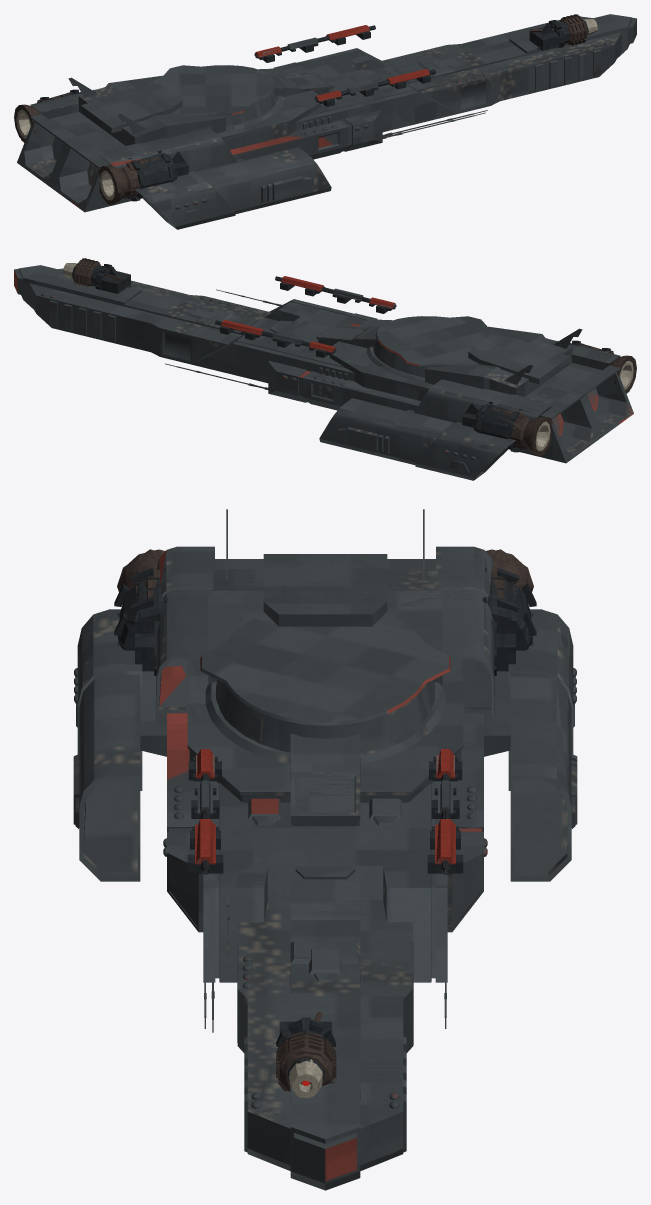
File: ashline_v2_dart.glb
The picture shows the model from 3 angles, top to bottom: view 1: azimuth 30°, elevation 25°; view 2: azimuth 150°, elevation 25°; view 3: azimuth 270°, elevation 25°; orthographic projection. The views are drawn at different scales.
Parts seen in each view (by area): view 1: LOD0_Merged_Material_Hull, LOD1_Merged_Material_Hull, LOD0_Merged_Material_Mechanical, LOD2_Merged_Material_Hull, LOD0_Merged_Material_HeatMetal, LOD0_Merged_Material_Red_Paint, LOD0_Merged_Material_Refractory, LOD1_Merged_Material_Refractory, LOD1_Merged_Material_Red_Paint, LOD1_Merged_Material_HeatMetal; view 2: LOD0_Merged_Material_Hull, LOD1_Merged_Material_Hull, LOD0_Merged_Material_Mechanical, LOD2_Merged_Material_Hull, LOD0_Merged_Material_HeatMetal, LOD0_Merged_Material_Red_Paint, LOD0_Merged_Material_Refractory, LOD1_Merged_Material_HeatMetal, LOD1_Merged_Material_Mechanical, LOD1_Merged_Material_Red_Paint, LOD1_Merged_Material_Refractory; view 3: LOD0_Merged_Material_Hull, LOD1_Merged_Material_Hull, LOD0_Merged_Material_Mechanical, LOD0_Merged_Material_HeatMetal, LOD2_Merged_Material_Hull, LOD0_Merged_Material_Red_Paint, LOD1_Merged_Material_Mechanical, LOD1_Merged_Material_HeatMetal.
Part boxes in pixels (<box>): LOD0_Merged_Material_Hull: <box>17,14,636,229</box>; LOD1_Merged_Material_Hull: <box>17,15,631,210</box>; LOD0_Merged_Material_Mechanical: <box>37,20,588,201</box>; LOD2_Merged_Material_Hull: <box>33,43,622,213</box>; LOD0_Merged_Material_HeatMetal: <box>14,14,587,204</box>; LOD0_Merged_Material_Red_Paint: <box>254,25,430,101</box>; LOD0_Merged_Material_Refractory: <box>17,19,595,199</box>; LOD1_Merged_Material_Refractory: <box>18,19,597,200</box>; LOD1_Merged_Material_Red_Paint: <box>254,26,429,100</box>; LOD1_Merged_Material_HeatMetal: <box>15,18,586,205</box>; LOD0_Merged_Material_Hull: <box>14,265,633,480</box>; LOD1_Merged_Material_Hull: <box>19,265,633,461</box>; LOD0_Merged_Material_Mechanical: <box>72,264,613,452</box>; LOD2_Merged_Material_Hull: <box>41,293,536,464</box>; LOD0_Merged_Material_HeatMetal: <box>73,258,636,455</box>; LOD0_Merged_Material_Red_Paint: <box>220,276,396,352</box>; LOD0_Merged_Material_Refractory: <box>65,263,633,450</box>; LOD1_Merged_Material_HeatMetal: <box>73,263,635,456</box>; LOD1_Merged_Material_Mechanical: <box>72,263,514,447</box>; LOD1_Merged_Material_Red_Paint: <box>224,281,395,351</box>; LOD1_Merged_Material_Refractory: <box>63,263,632,450</box>; LOD0_Merged_Material_Hull: <box>73,509,577,1190</box>; LOD1_Merged_Material_Hull: <box>74,512,576,1189</box>; LOD0_Merged_Material_Mechanical: <box>114,568,536,1081</box>; LOD0_Merged_Material_HeatMetal: <box>120,549,530,1091</box>; LOD2_Merged_Material_Hull: <box>74,559,576,1108</box>; LOD0_Merged_Material_Red_Paint: <box>195,749,455,864</box>; LOD1_Merged_Material_Mechanical: <box>118,585,529,1084</box>; LOD1_Merged_Material_HeatMetal: <box>117,549,533,1091</box>.
Size of what is drawn, in the model's own units: 17.47 by 2.94 by 6.5.
6 materials, 6 textured.
